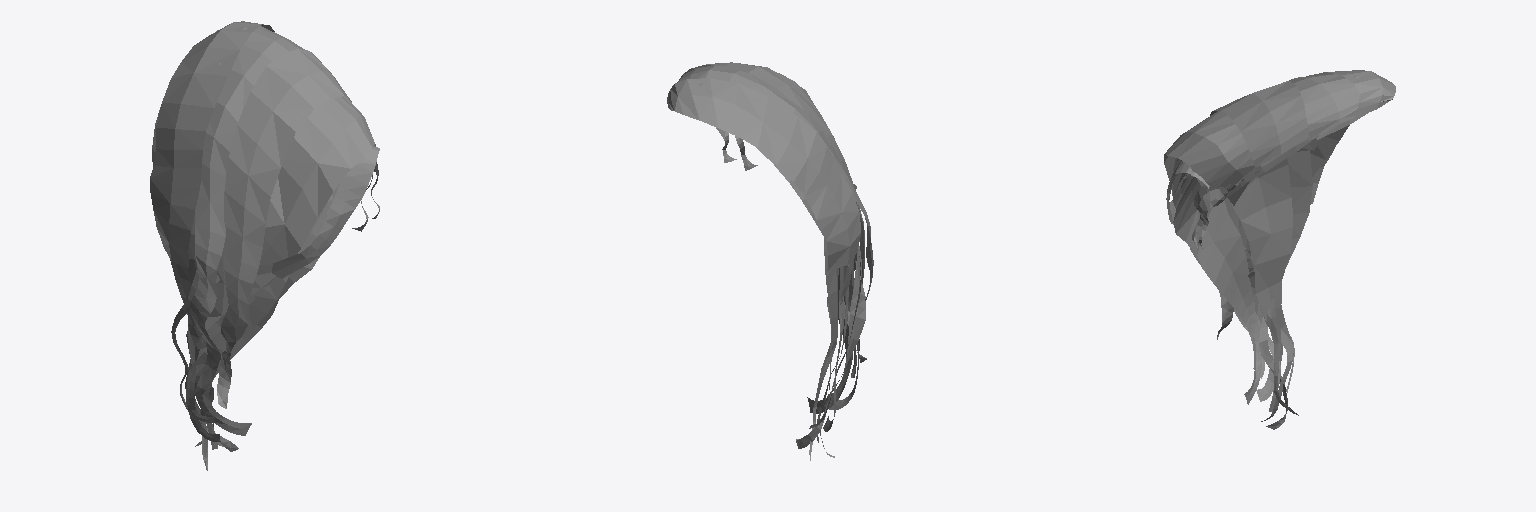
File: c_08_mg_hair_geralt.obj
3 views of the same model, side by side, from view 1: azimuth 30°, elevation 25°; view 2: azimuth 150°, elevation 25°; view 3: azimuth 270°, elevation 25° (orthographic).
Visible parts, largest first — view 1: grp1; view 2: grp1; view 3: grp1.
Part boxes in pixels (x1,y1,x2,y2): grp1: (150, 21, 379, 470); grp1: (667, 62, 873, 460); grp1: (1164, 70, 1395, 429).
Size of the model in its own units: 0.112 by 0.2443 by 0.1325.